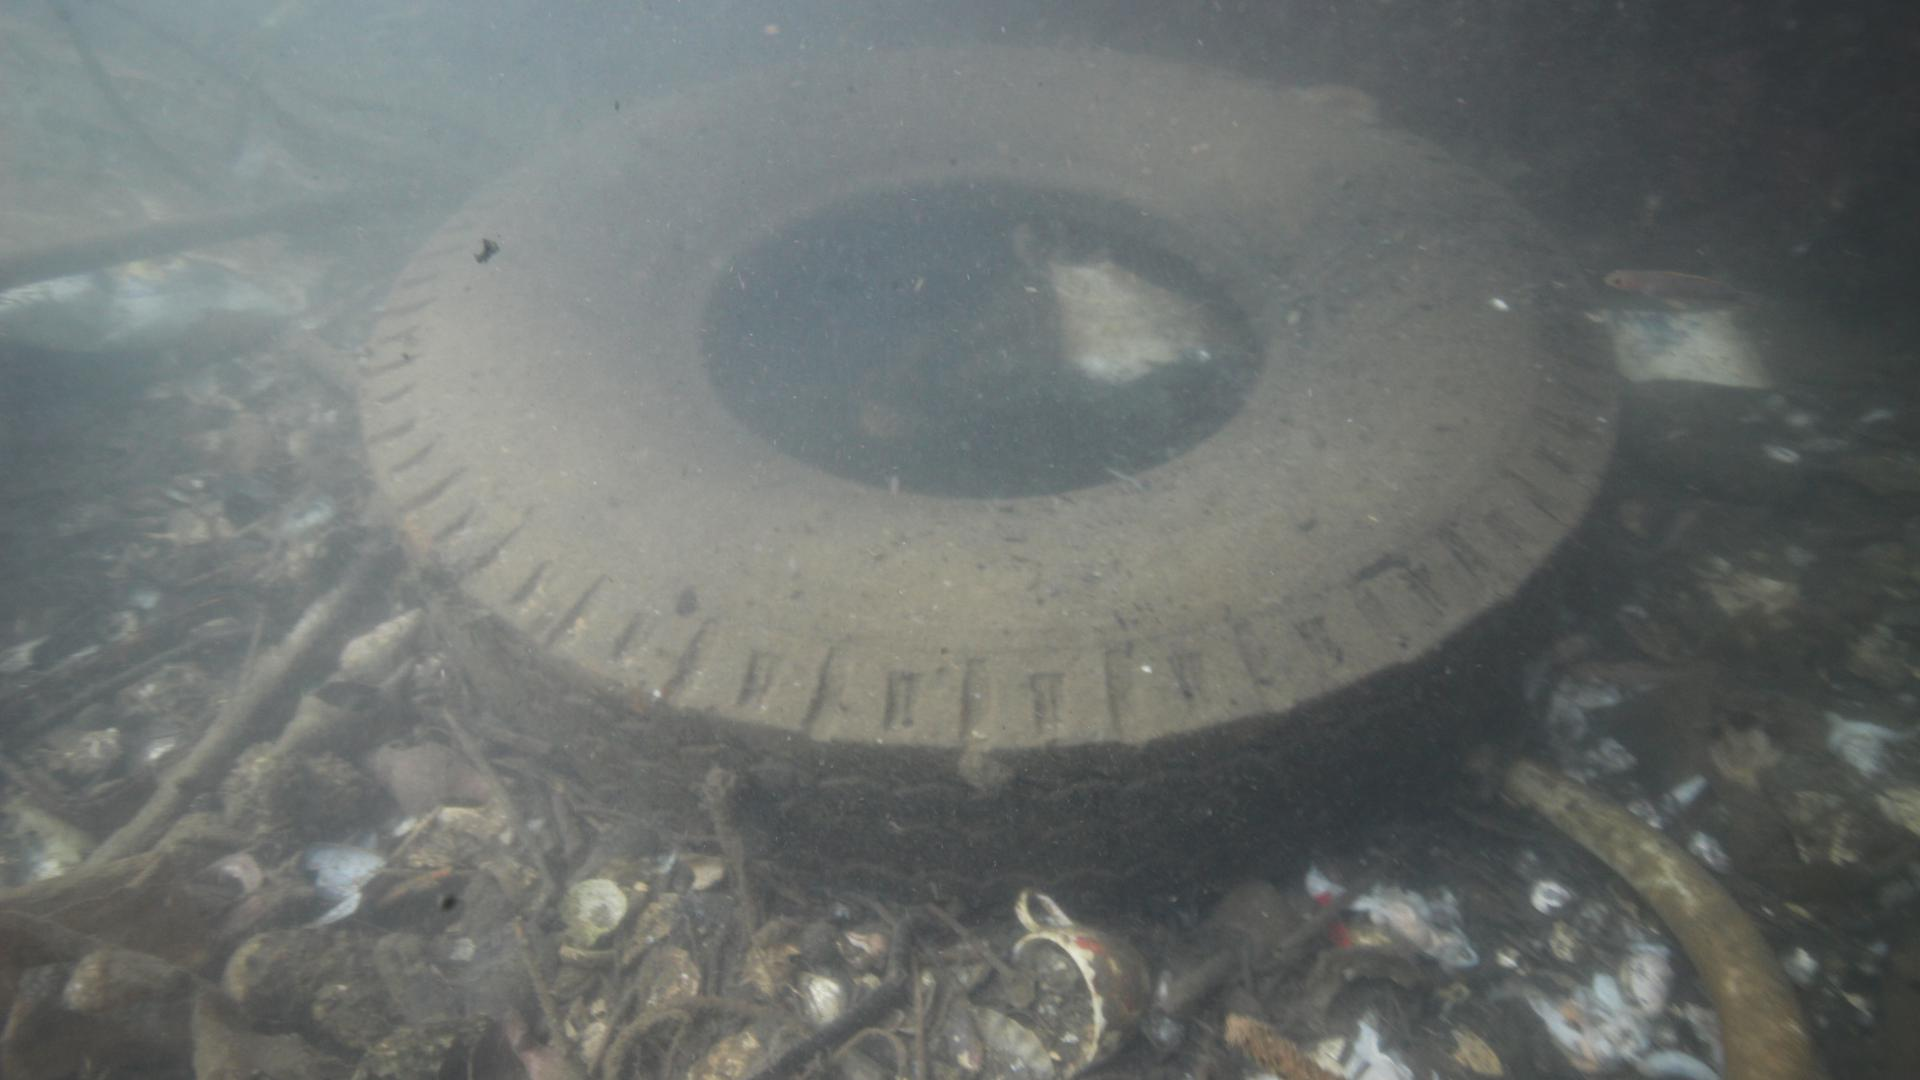tire: (353, 42, 1617, 924)
